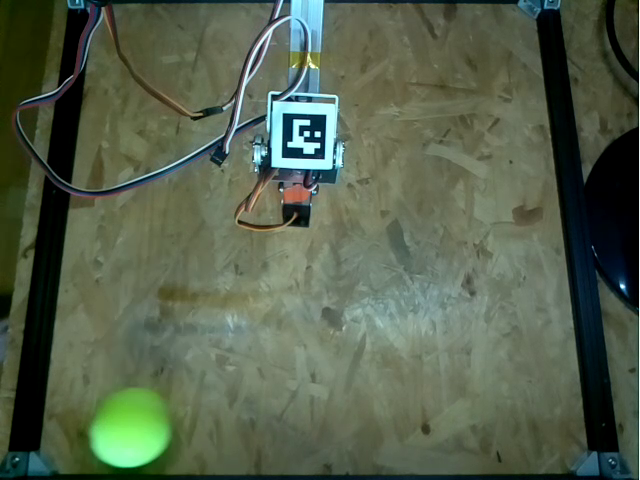tennis_ball: (90, 383, 170, 468)
